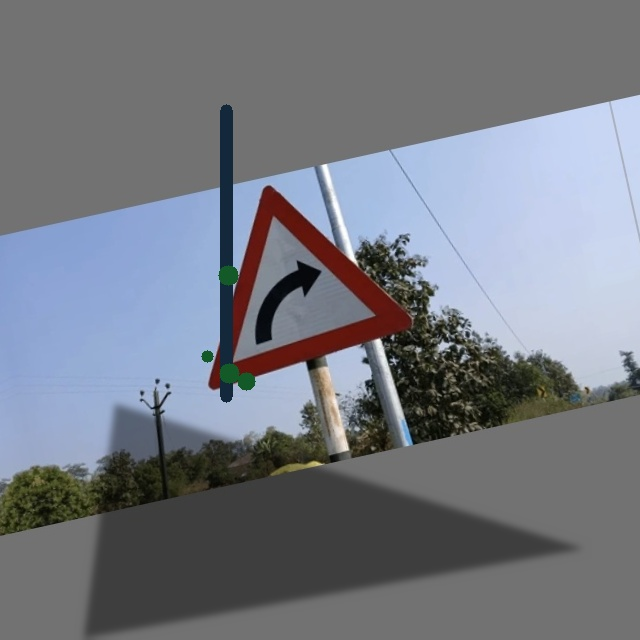Right_Hand_Curve: (177, 160, 414, 391)
